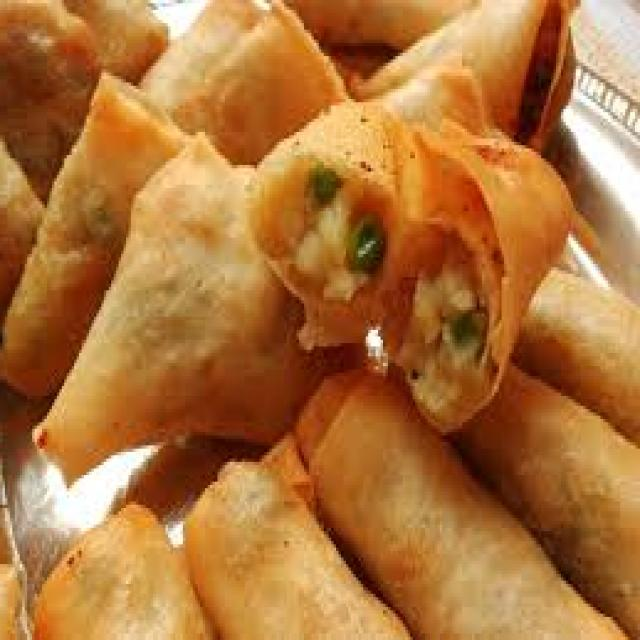Samosa: (0, 0, 550, 412)
Spring Rolls: (51, 283, 640, 640)
